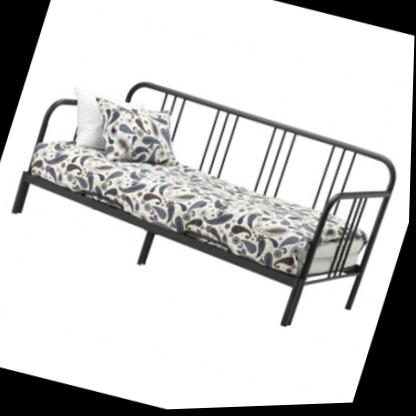Bed: (0, 41, 414, 355)
